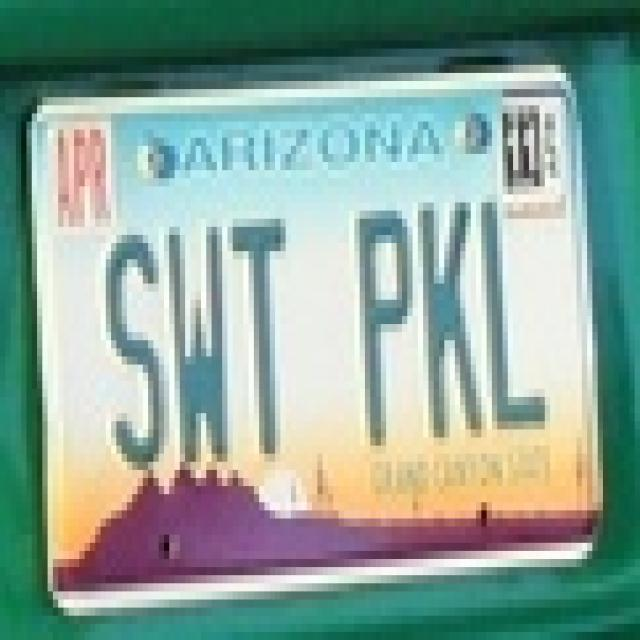LicensePlate: (9, 58, 616, 623)
